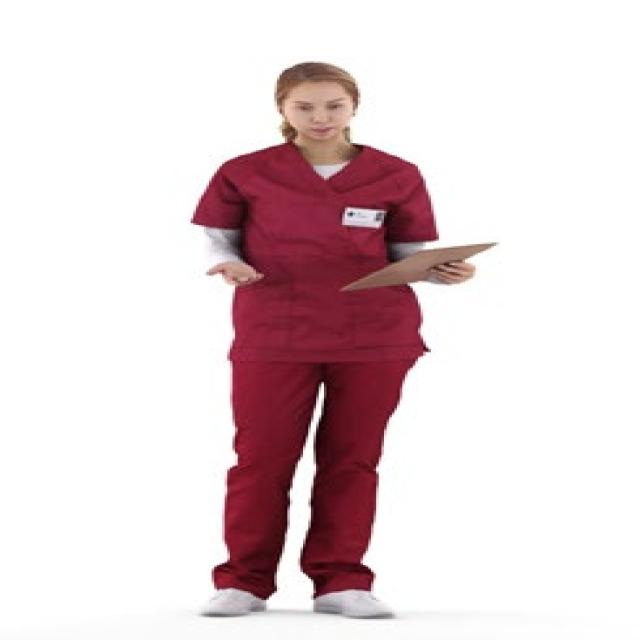standing: (184, 60, 480, 620)
